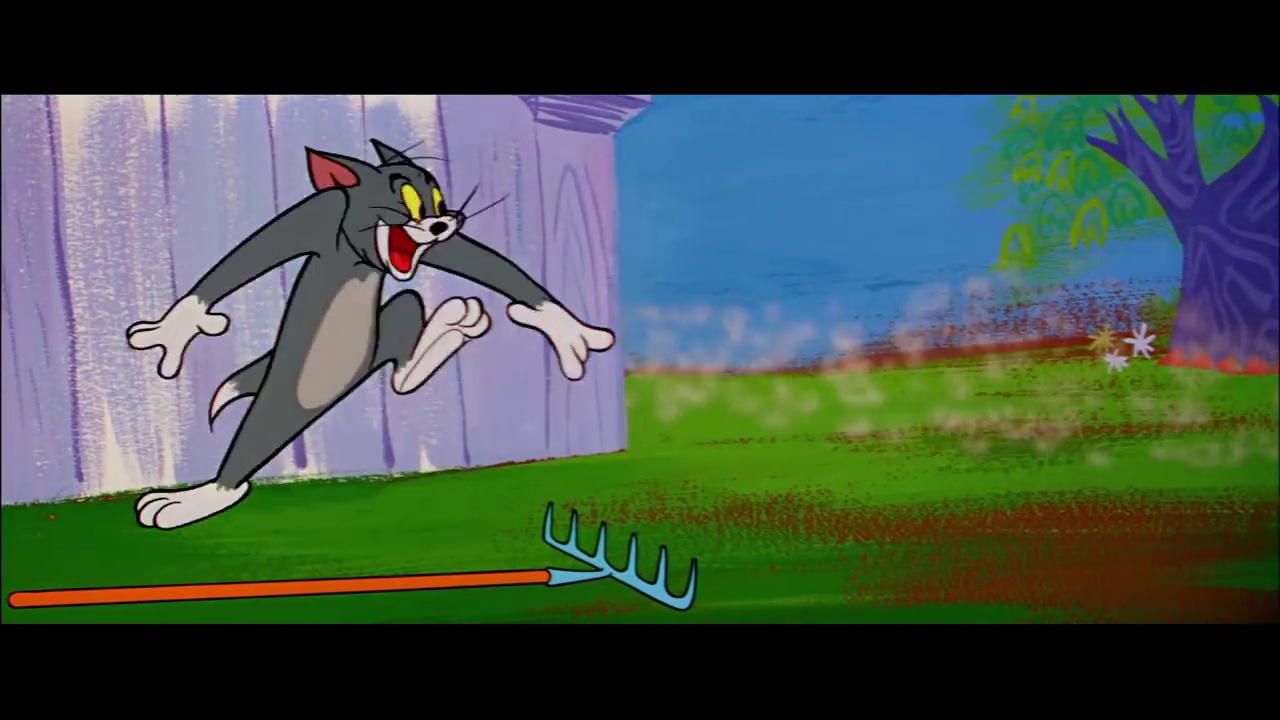tom: (300, 137, 477, 279)
